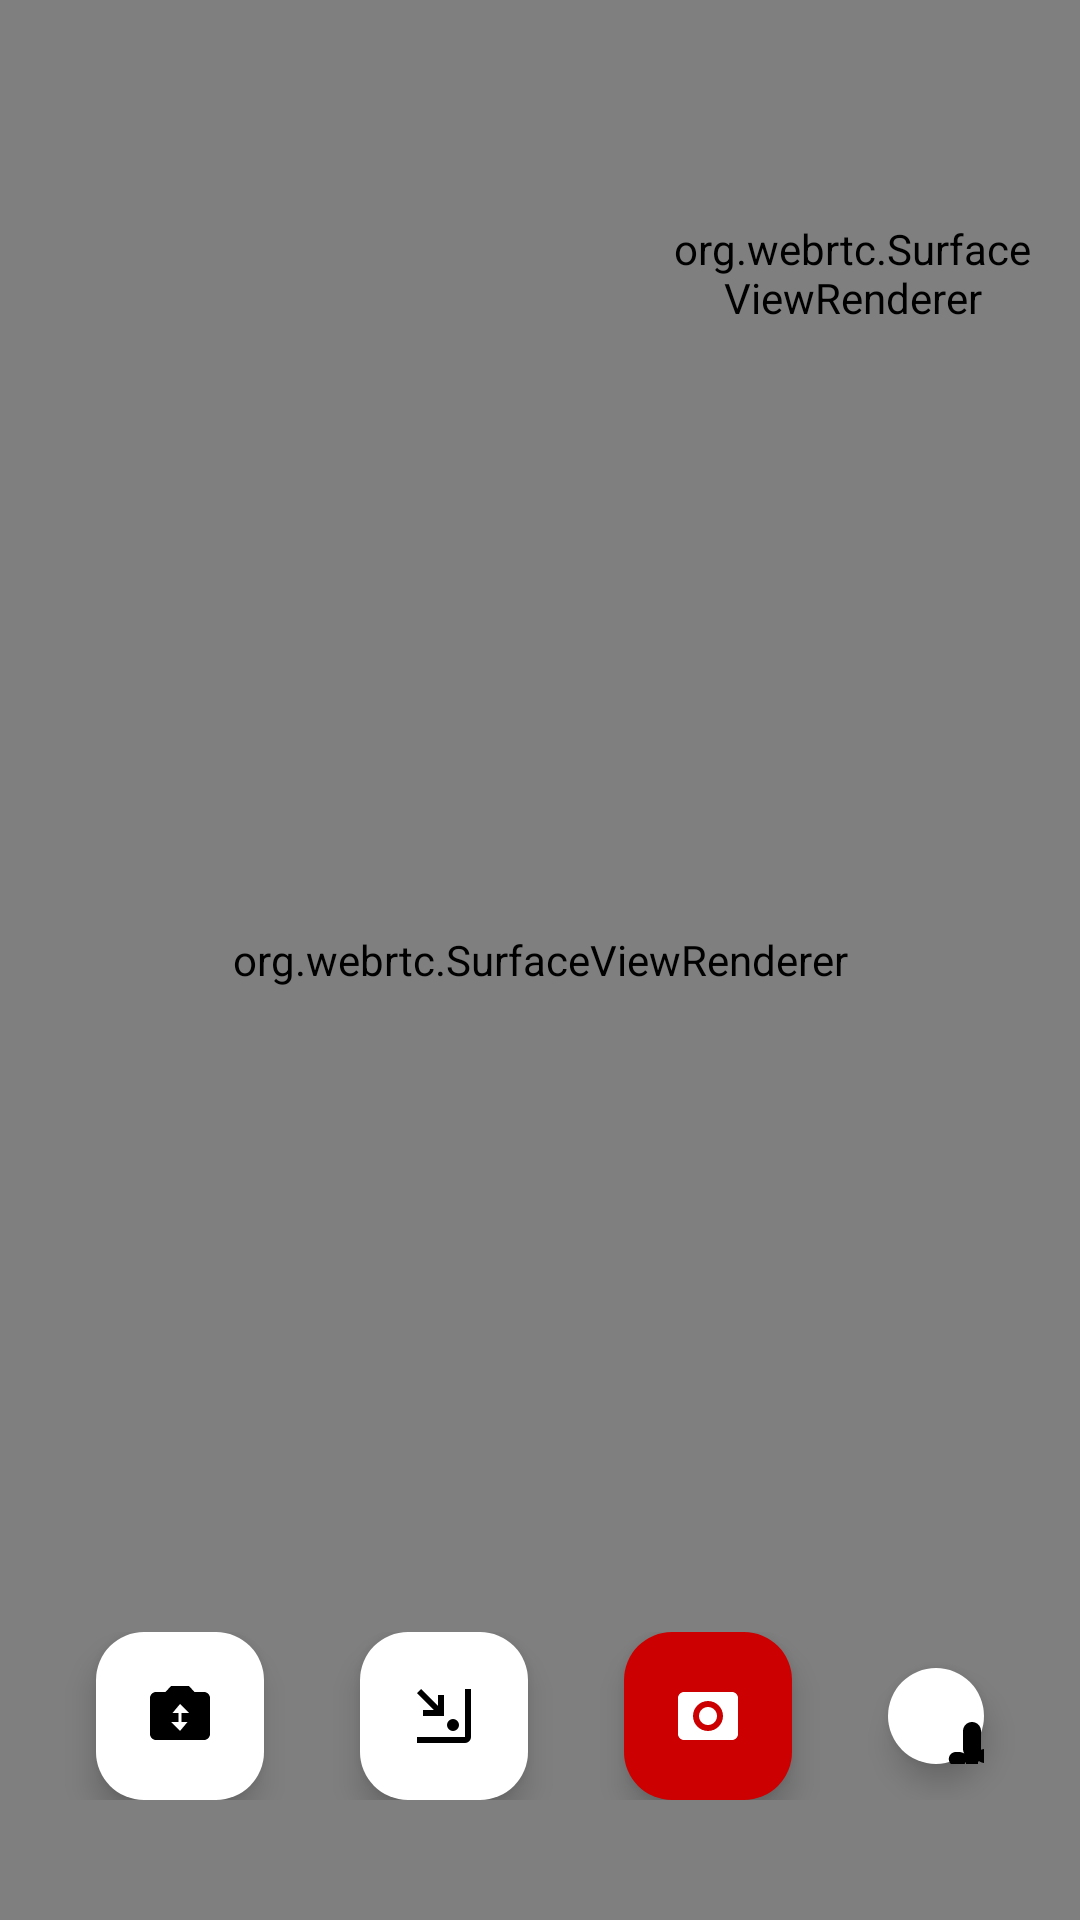

Where icons sit on this 1080 x 1920 app screen, as (x1, y1, x2, y2):
picture in: (360, 1632, 528, 1800)
switch camera: (96, 1632, 264, 1800)
